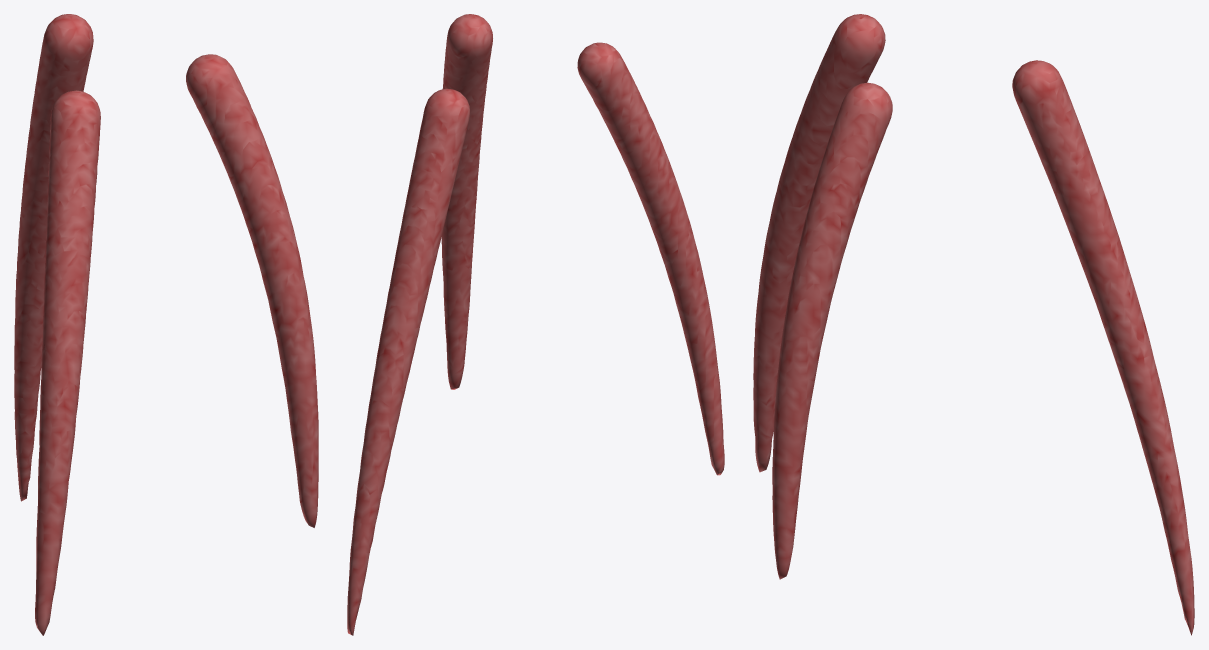
Rendered from pulp.glb.
The picture shows the model from 3 angles, left to right: view 1: azimuth 30°, elevation 25°; view 2: azimuth 150°, elevation 25°; view 3: azimuth 270°, elevation 25°; orthographic projection. The views are drawn at different scales.
Parts seen in each view (by area): view 1: pulp; view 2: pulp; view 3: pulp.
Part boxes in pixels (x1,y1,x2,y2): pulp: [14, 14, 318, 635]; pulp: [347, 14, 724, 635]; pulp: [753, 14, 1194, 635].
Bounding box in the file's own units: 7.13 × 12.93 × 9.15.
